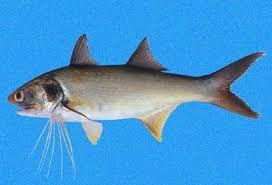Fourfinger Threadfish: (10, 33, 267, 180)
